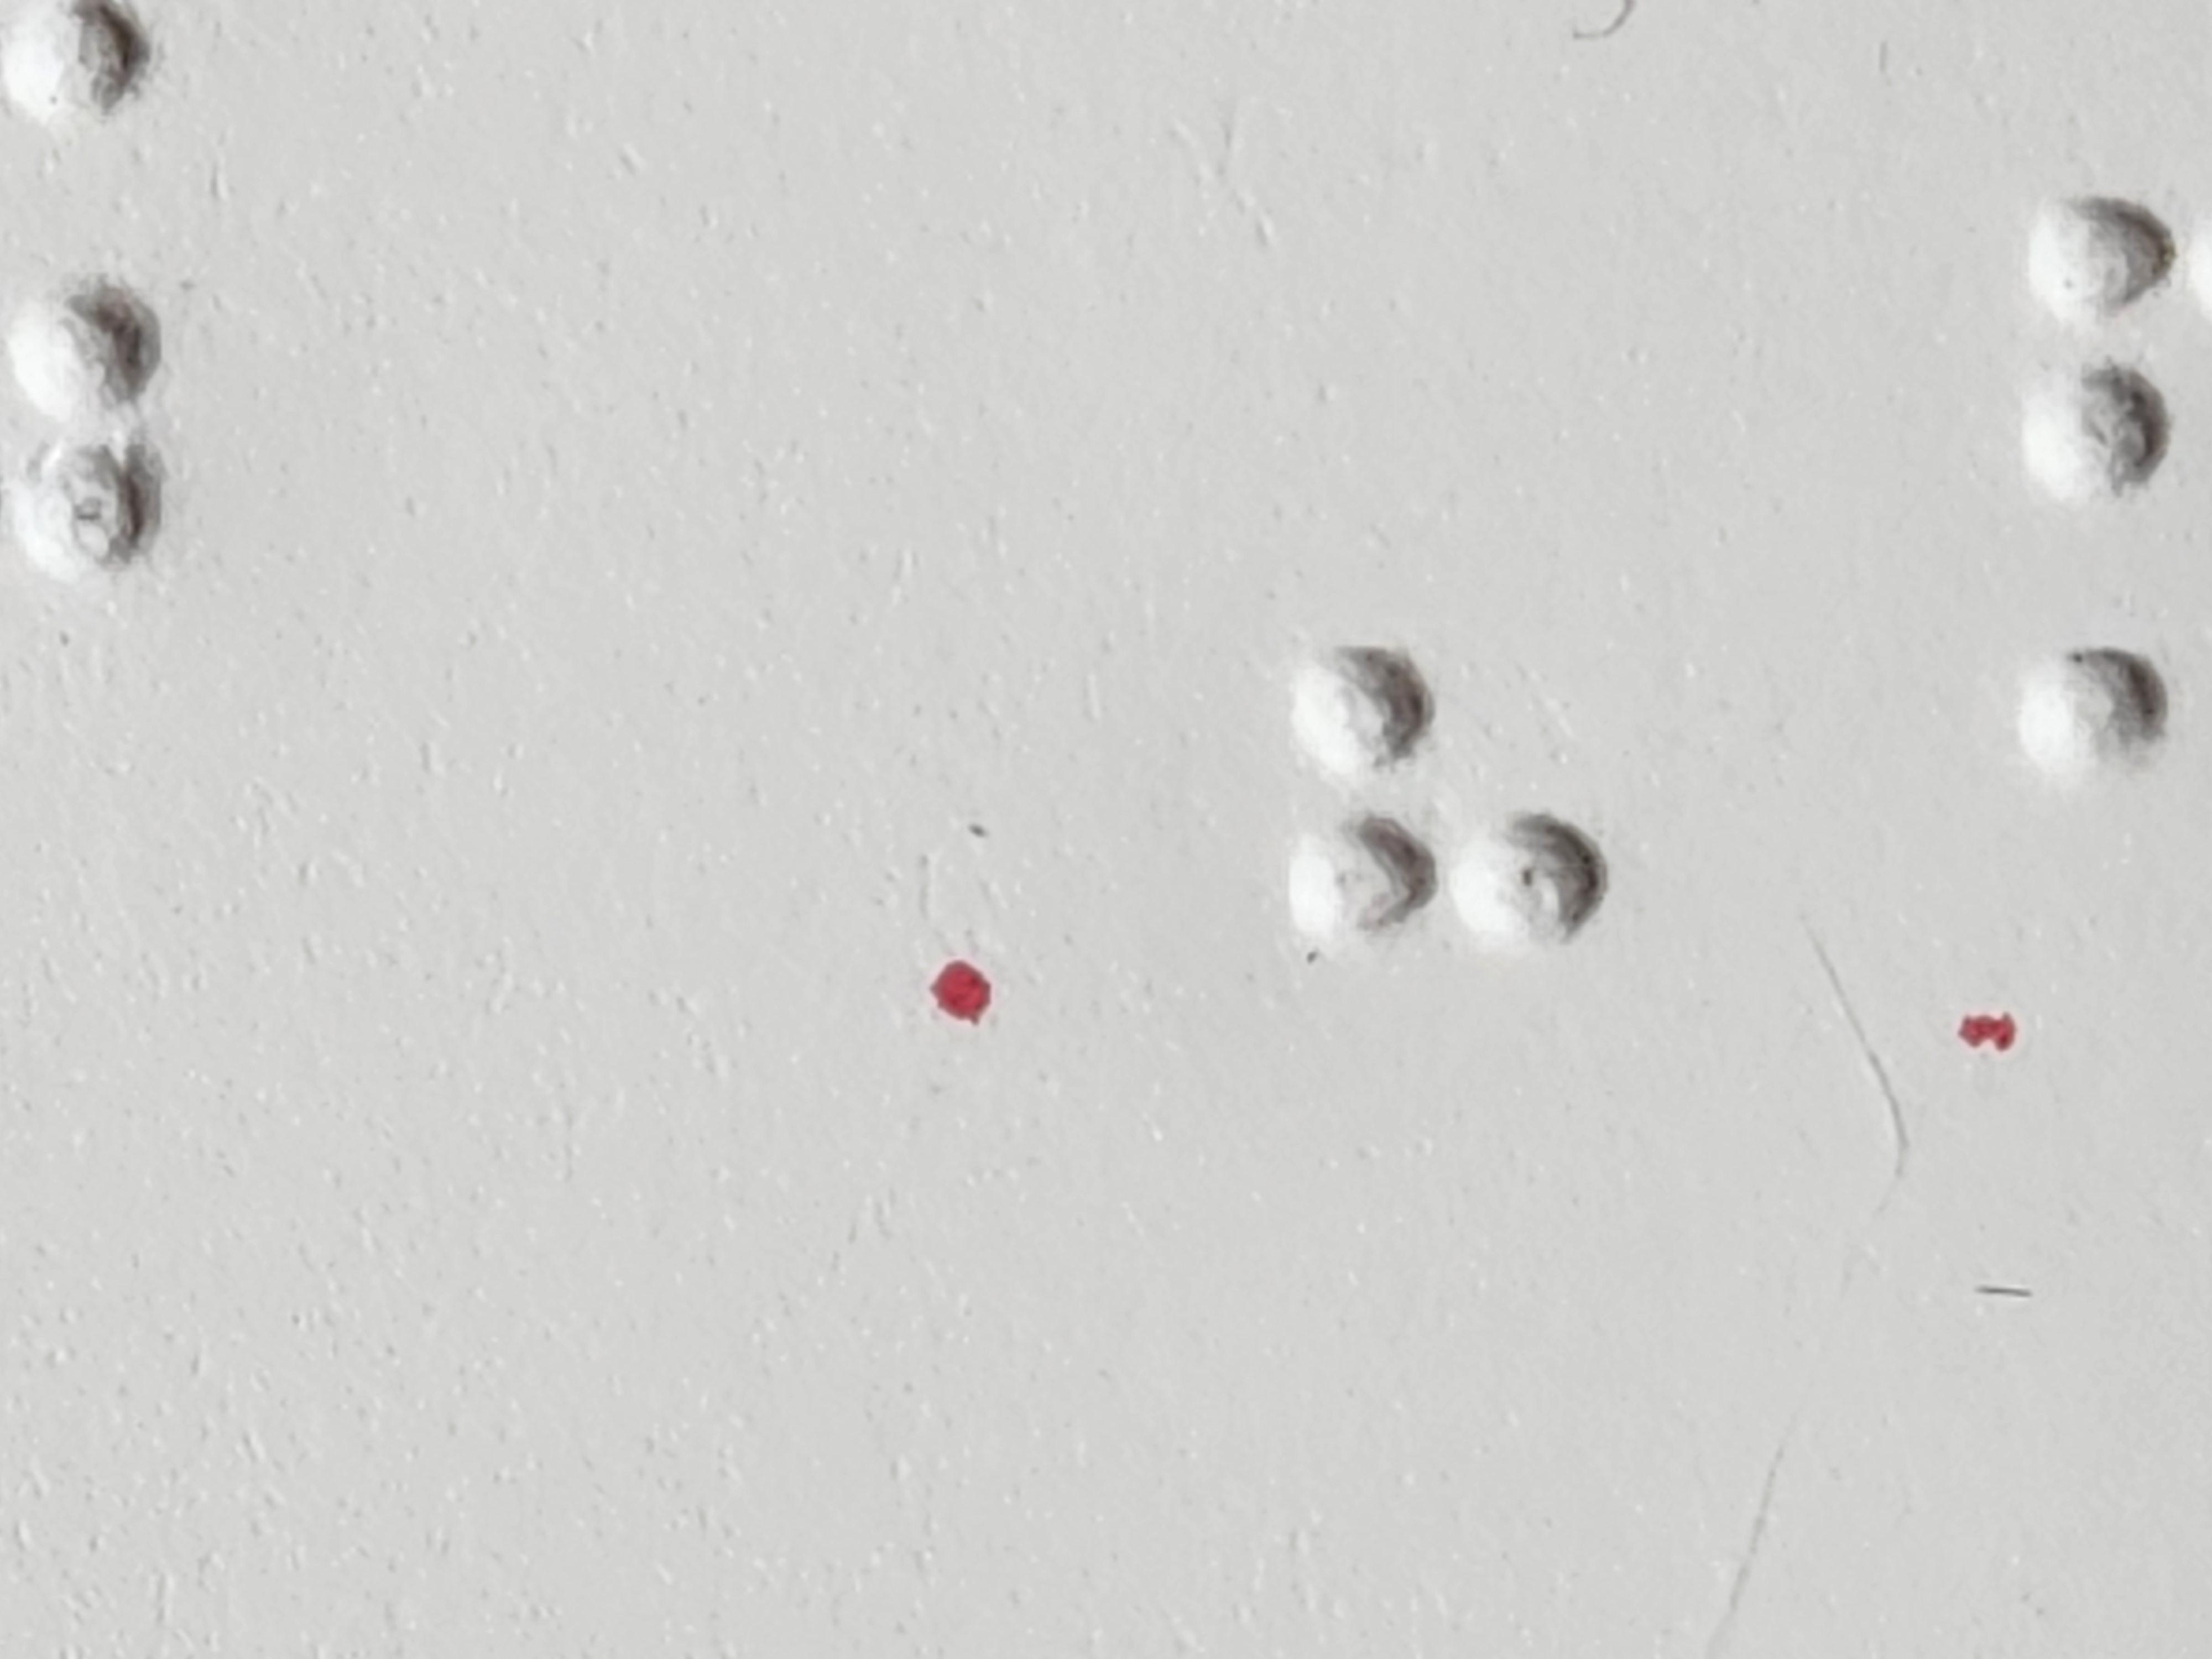letter_f: (946, 964, 1357, 1352)
